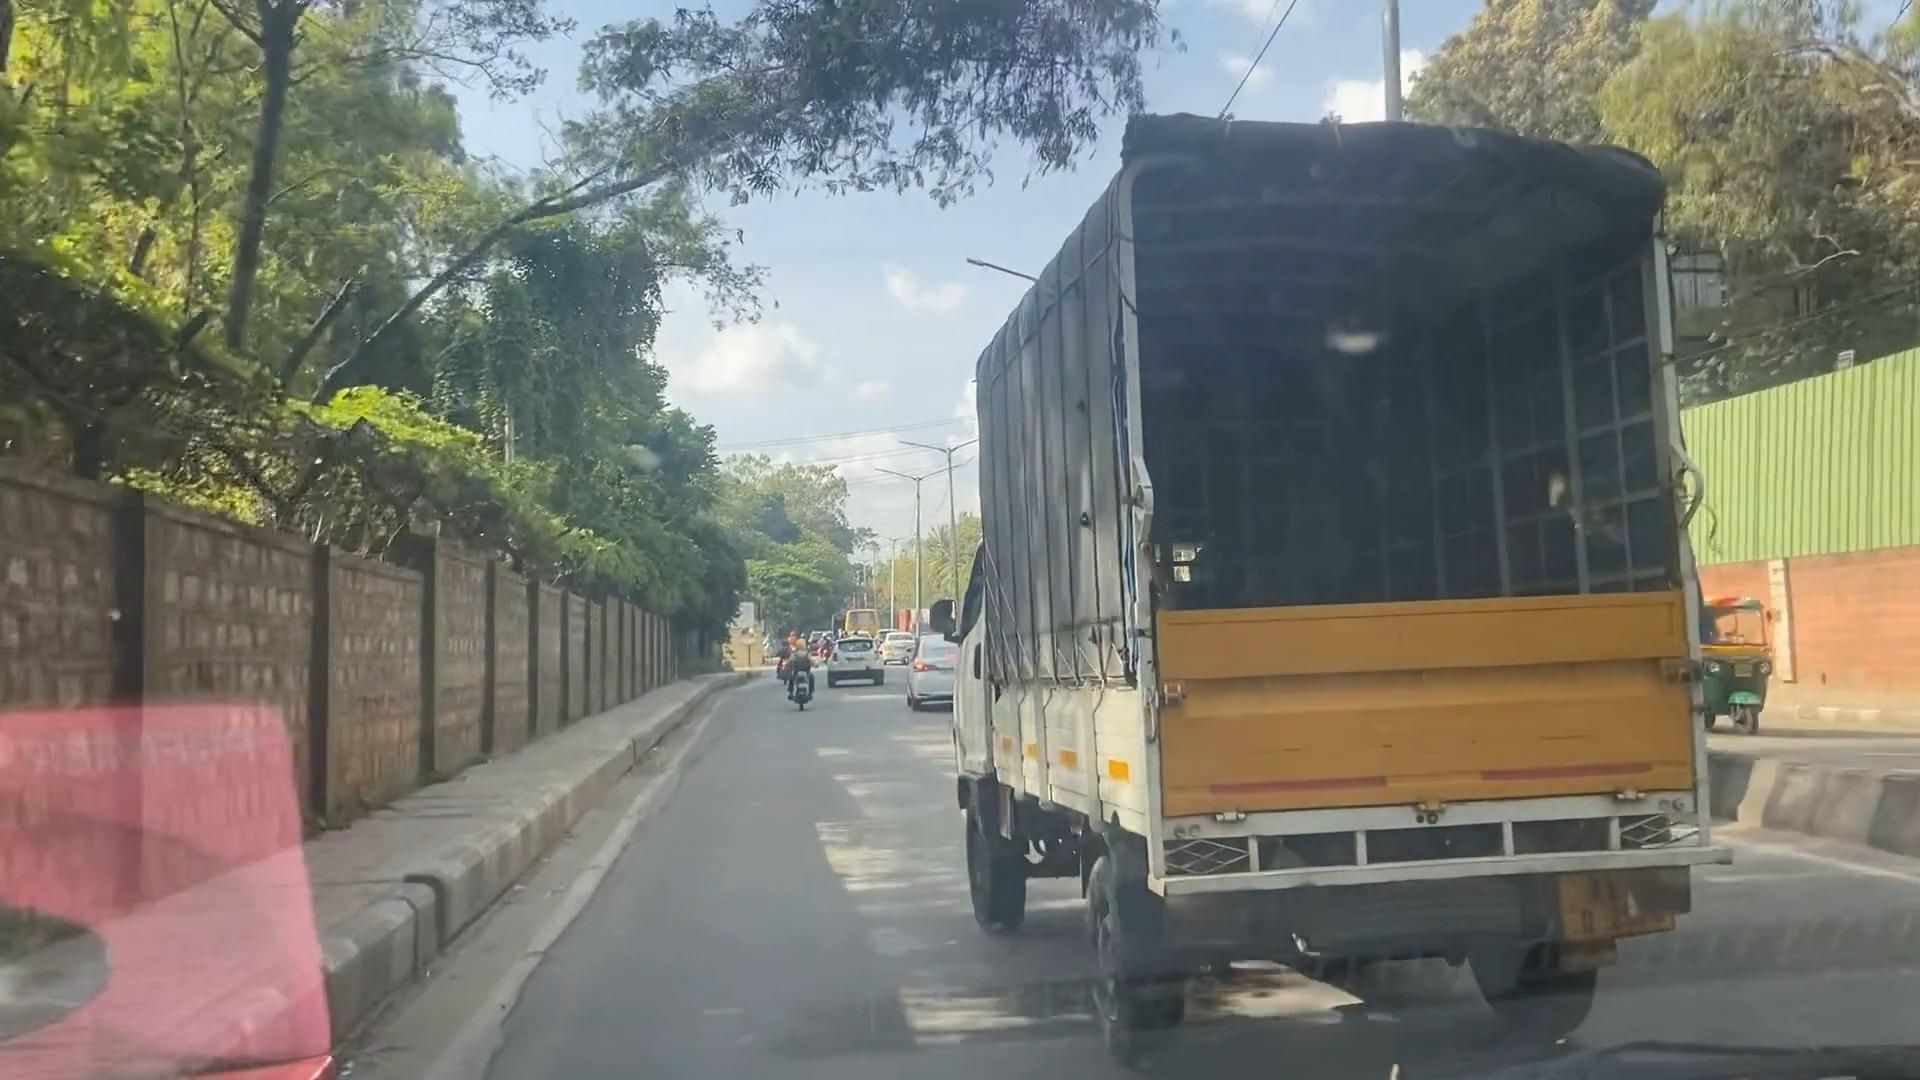HMV: (942, 79, 1776, 1069)
